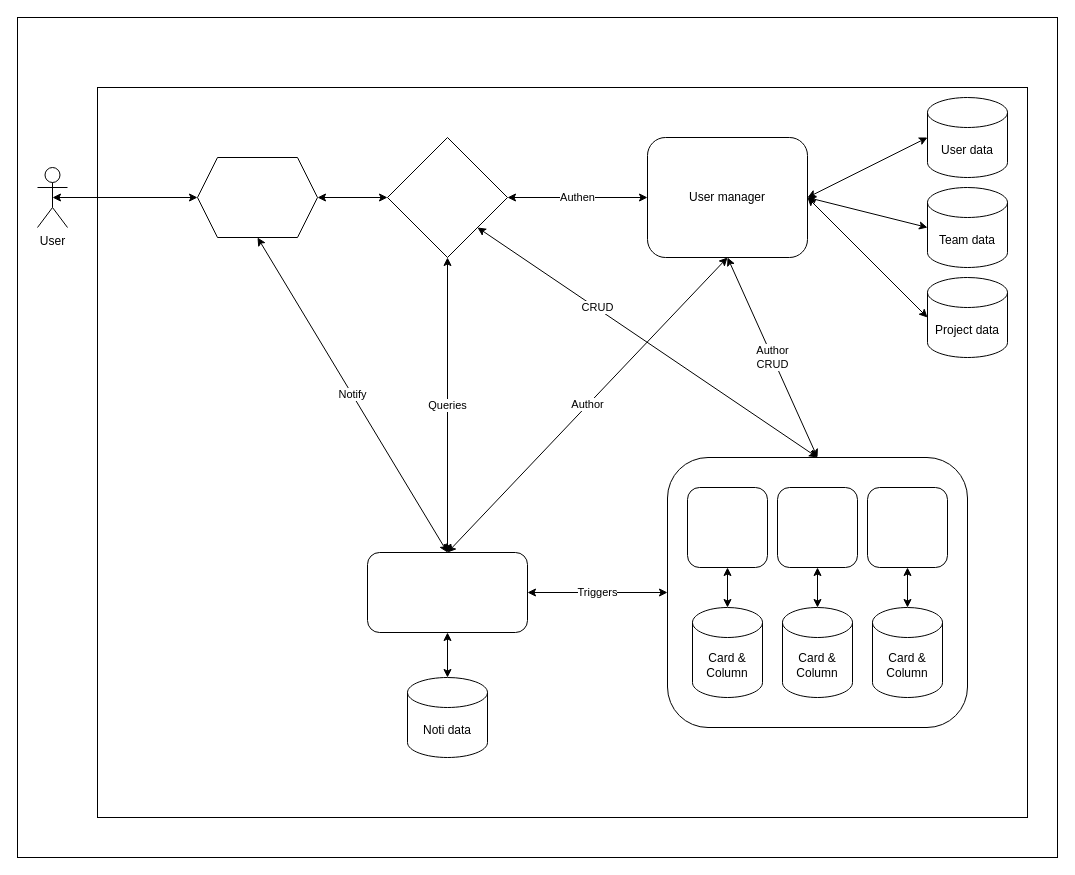
Some shapes in this 1075 by 875 pixel diagram are drawn without their labels. Here are the shapes that lost their labels. From the top down, the centre of each, then its label:
At point 257,197: "UI".
At point 447,197: "gateway".
At point 447,592: "Notifications".
